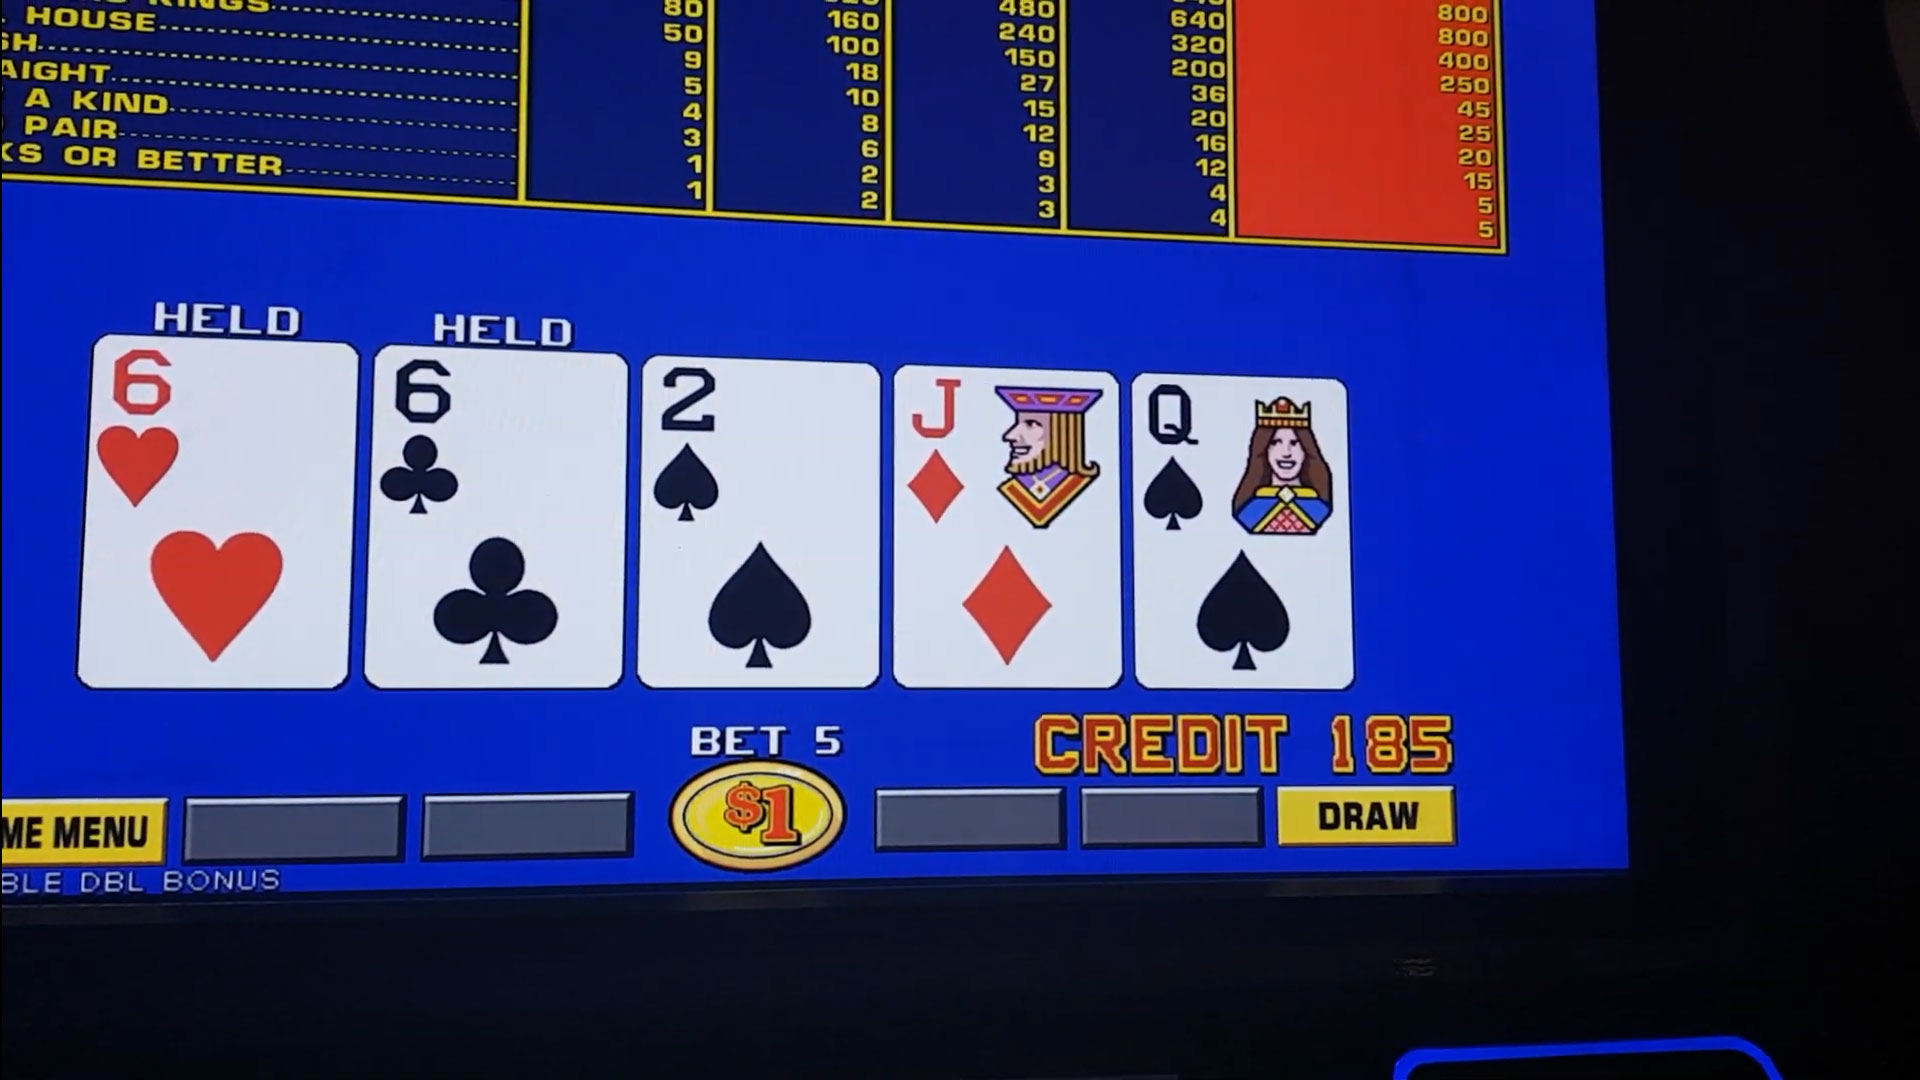C6: (375, 353, 626, 522)
DJ: (902, 369, 1118, 531)
H6: (98, 343, 357, 520)
S2: (647, 365, 880, 534)
SQ: (1135, 377, 1346, 546)
